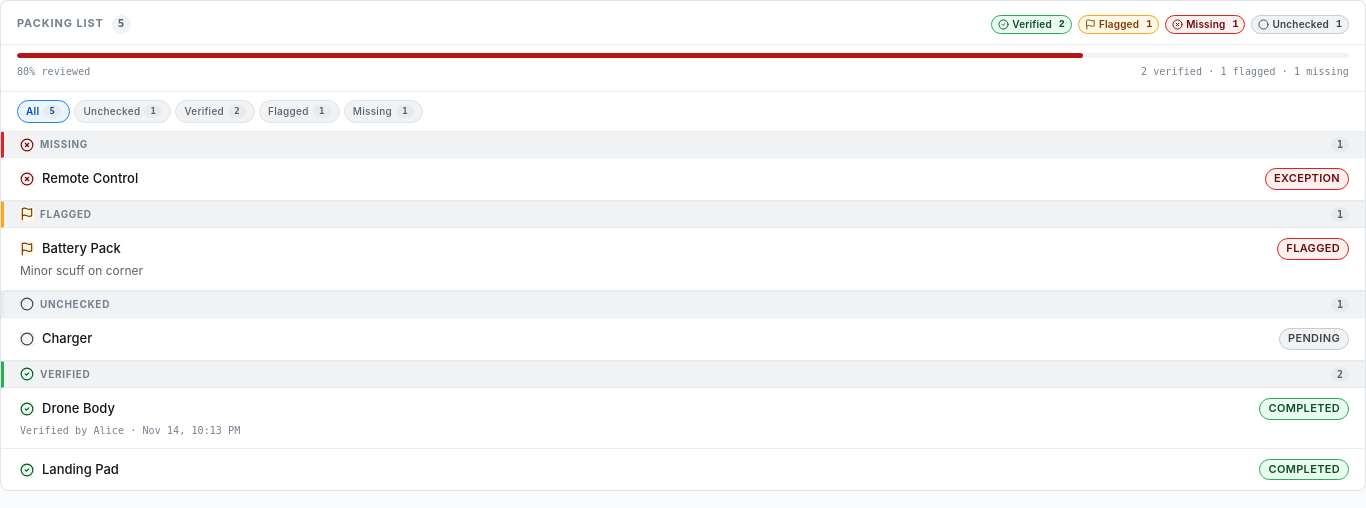
Test: ManifestPanel › shows only ok items after clicking the Verified filter
Step 1. Click the button with aria-label "Show verified items" → (215, 112), box [175, 100, 255, 123]
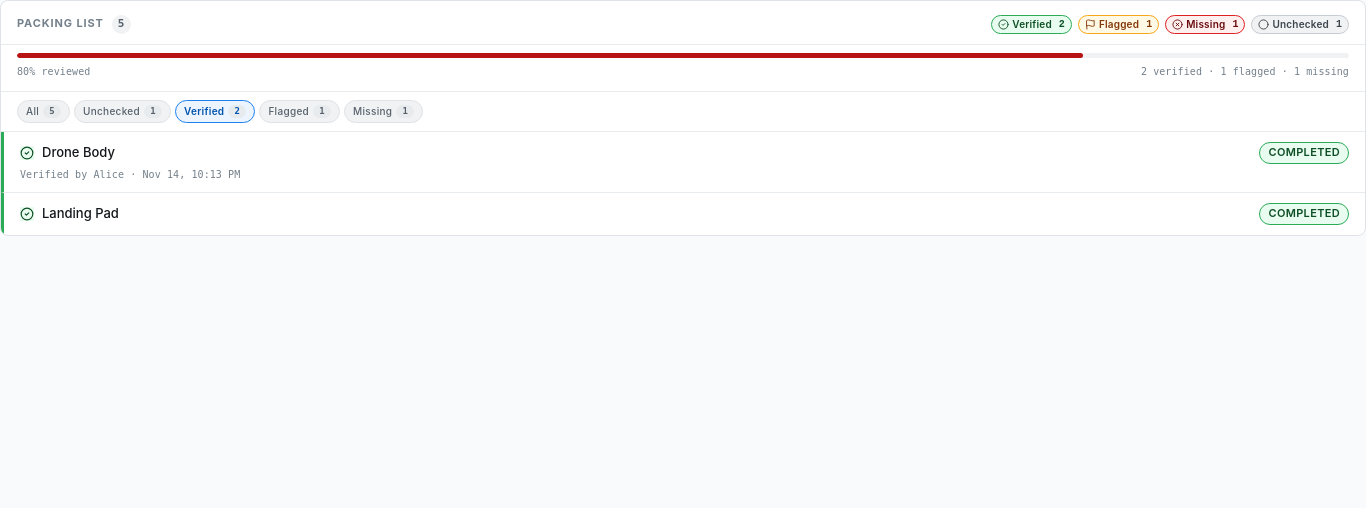
Expected: the number of list items with test id "manifest-item" is 2, [1, 132, 1365, 193]; [1, 193, 1365, 235]
